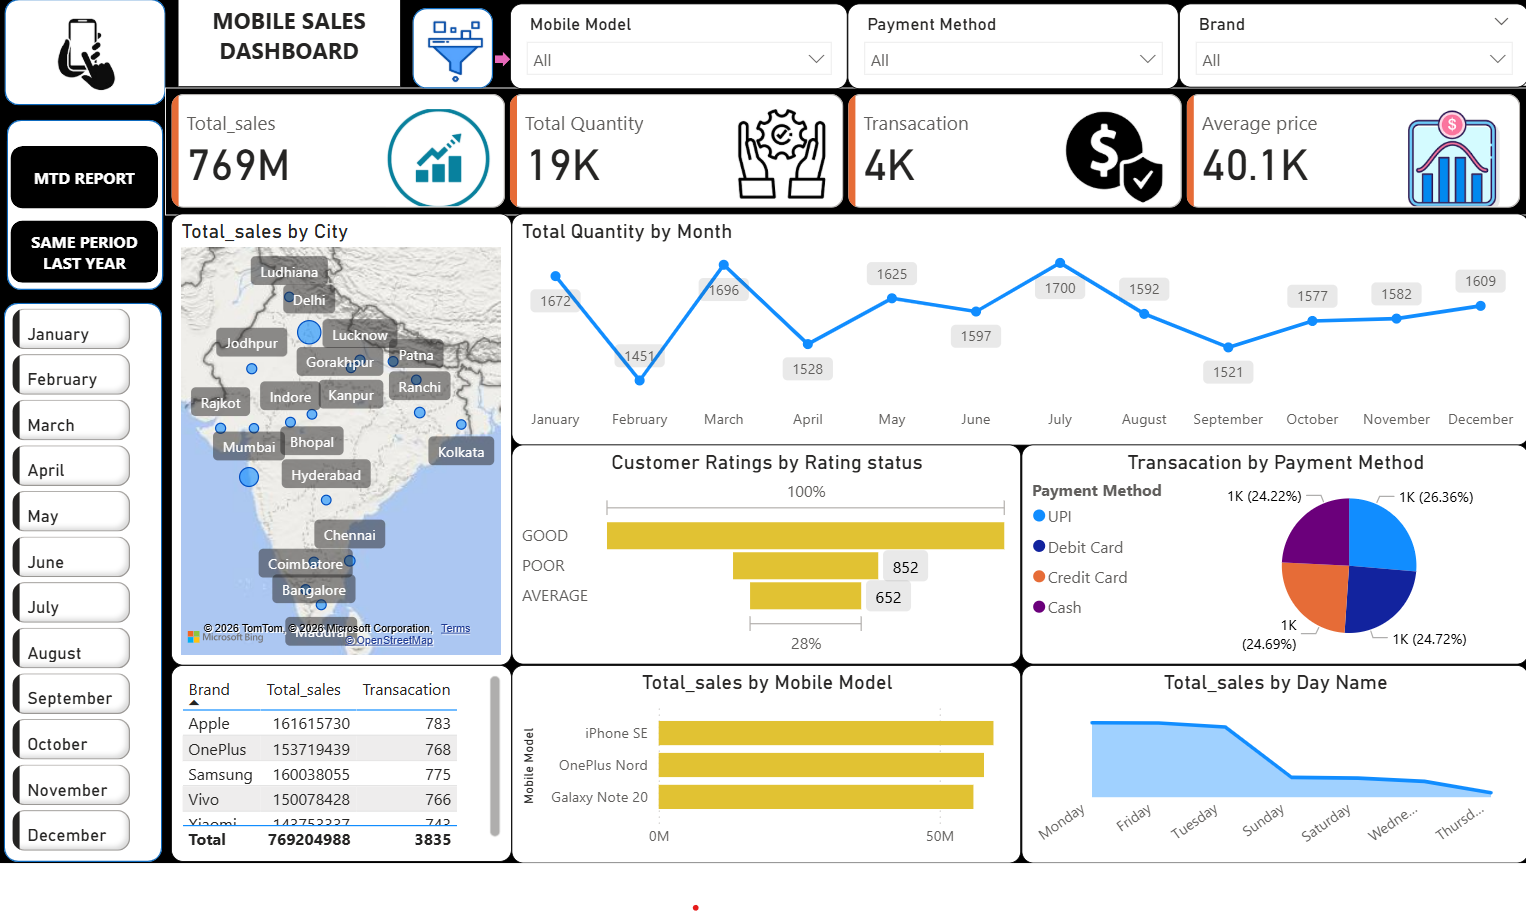

Layout of this report page (visuals, bound fields, positions):
{"tool":"powerbi","page":{"name":"DASHBOARD","canvas":[1280,720],"ordinal":0},"visuals":[{"type":"shape","box":[10.2,100.6,132.4,143.9],"z":0},{"type":"shape","box":[8,252,134,468],"z":1000},{"type":"advancedSlicerVisual","fields":{"Values":["Date.Date.Variation.Date Hierarchy.Month"]},"box":[10.2,252.1,108.2,467.3],"z":2000},{"type":"shape","box":[8.6,0,134.3,88.6],"z":3000},{"type":"image","box":[10.2,3.8,133.7,85.3],"z":4000},{"type":"cardVisual","fields":{"Data":["Mobile_sales_data.Total_sales","Mobile_sales_data.Total Quantity","Mobile_sales_data.Transacation","Mobile_sales_data.Average price"]},"box":[142.6,73.8,1137,105.7],"z":5000},{"type":"slicer","fields":{"Values":["Mobile_sales_data.Payment Method"]},"box":[711.7,3.8,276.3,71.3],"z":6000},{"type":"slicer","fields":{"Values":["Mobile_sales_data.Mobile Model"]},"box":[430.3,3.8,281.4,71.3],"z":7000},{"type":"slicer","fields":{"Values":["Mobile_sales_data.Brand"]},"box":[988,3.8,291.6,70],"z":8000},{"type":"shape","box":[348.6,7.1,67.1,67.1],"z":9000},{"type":"image","box":[351.4,12.7,66.2,62.4],"z":10000},{"type":"shape","box":[417.1,44.3,12.9,12.9],"z":11000},{"type":"textbox","box":[154.1,0,184.6,72.6],"z":12000},{"type":"map","fields":{"Category":["Mobile_sales_data.City"],"Size":["Mobile_sales_data.Total_sales"]},"box":[147.7,178.3,283.9,376.9],"z":13000},{"type":"lineChart","fields":{"Category":["Date.Date.Variation.Date Hierarchy.Month"],"Y":["Mobile_sales_data.Total Quantity"]},"box":[431.6,178.3,848,193.5],"z":14000},{"type":"funnel","title":"Customer Ratings by Rating status","fields":{"Y":["CountNonNull(Mobile_sales_data.Customer Ratings)"],"Category":["Mobile_sales_data.Rating status"]},"box":[431.1,371.5,425,183.4],"z":15000},{"type":"pieChart","fields":{"Y":["Mobile_sales_data.Transacation"],"Category":["Mobile_sales_data.Payment Method"]},"box":[856.9,371.8,422.7,183.3],"z":16000},{"type":"areaChart","fields":{"Category":["Date.Day Name"],"Y":["Mobile_sales_data.Total_sales"]},"box":[856.9,555.1,422.7,165.5],"z":17000},{"type":"clusteredBarChart","fields":{"Y":["Mobile_sales_data.Total_sales"],"Category":["Mobile_sales_data.Mobile Model"]},"box":[431.1,554.9,425,165.1],"z":18000},{"type":"tableEx","fields":{"Values":["Mobile_sales_data.Brand","Mobile_sales_data.Total_sales","Mobile_sales_data.Transacation"]},"box":[147.5,555,283.8,163.8],"z":19000},{"type":"pageNavigator","box":[14,122.2,123.5,115.9],"z":20000}]}

Visuals, with their boxes on the page's 1280x720 design canvas (x1, y1, x2, y2). These are canvas units, not pixel positions in the 1526x912 screenshot, which may show the page scaled, cropped or inside an application window:
shape: (10, 101, 143, 244)
shape: (8, 252, 142, 720)
advancedSlicerVisual - Date.Date.Variation.Date Hierarchy.Month: (10, 252, 118, 719)
shape: (9, 0, 143, 89)
image: (10, 4, 144, 89)
cardVisual - Mobile_sales_data.Total_sales x Mobile_sales_data.Total Quantity: (143, 74, 1280, 180)
slicer - Mobile_sales_data.Payment Method: (712, 4, 988, 75)
slicer - Mobile_sales_data.Mobile Model: (430, 4, 712, 75)
slicer - Mobile_sales_data.Brand: (988, 4, 1280, 74)
shape: (349, 7, 416, 74)
image: (351, 13, 418, 75)
shape: (417, 44, 430, 57)
textbox: (154, 0, 339, 73)
map - Mobile_sales_data.City x Mobile_sales_data.Total_sales: (148, 178, 432, 555)
lineChart - Date.Date.Variation.Date Hierarchy.Month x Mobile_sales_data.Total Quantity: (432, 178, 1280, 372)
"Customer Ratings by Rating status" funnel: (431, 372, 856, 555)
pieChart - Mobile_sales_data.Transacation x Mobile_sales_data.Payment Method: (857, 372, 1280, 555)
areaChart - Date.Day Name x Mobile_sales_data.Total_sales: (857, 555, 1280, 721)
clusteredBarChart - Mobile_sales_data.Total_sales x Mobile_sales_data.Mobile Model: (431, 555, 856, 720)
tableEx - Mobile_sales_data.Brand x Mobile_sales_data.Total_sales: (148, 555, 431, 719)
pageNavigator: (14, 122, 138, 238)
